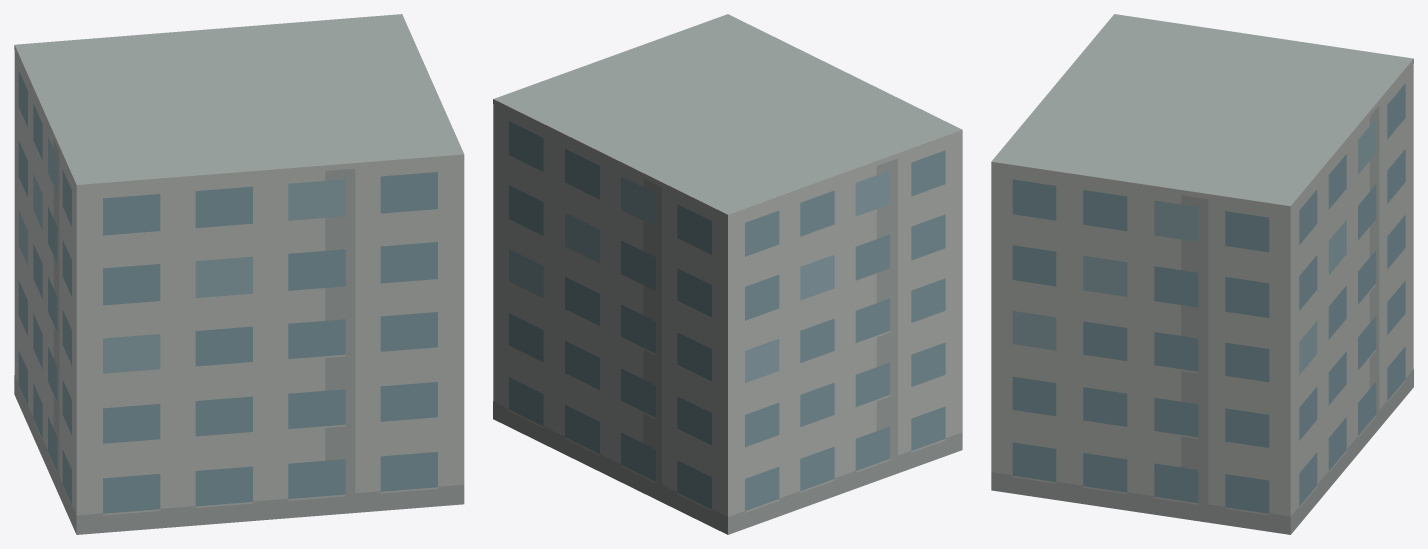
File: residential-df22e192-a5f3-474d-a948-bdefeaabcd4e.glb
The picture shows the model from 3 angles, left to right: view 1: azimuth 30°, elevation 25°; view 2: azimuth 150°, elevation 25°; view 3: azimuth 270°, elevation 25°; orthographic projection. The views are drawn at different scales.
Parts seen in each view (by area): view 1: residential-df22e192-a5f3-474d-a948-bdefeaabcd4e.tmp; view 2: residential-df22e192-a5f3-474d-a948-bdefeaabcd4e.tmp; view 3: residential-df22e192-a5f3-474d-a948-bdefeaabcd4e.tmp.
Part boxes in pixels (box(x1,y1,x2,y2)): residential-df22e192-a5f3-474d-a948-bdefeaabcd4e.tmp: box(14, 14, 464, 534); residential-df22e192-a5f3-474d-a948-bdefeaabcd4e.tmp: box(493, 14, 962, 534); residential-df22e192-a5f3-474d-a948-bdefeaabcd4e.tmp: box(991, 14, 1413, 534).
Bounding box in the file's own units: 19.14 × 15.25 × 17.78.
